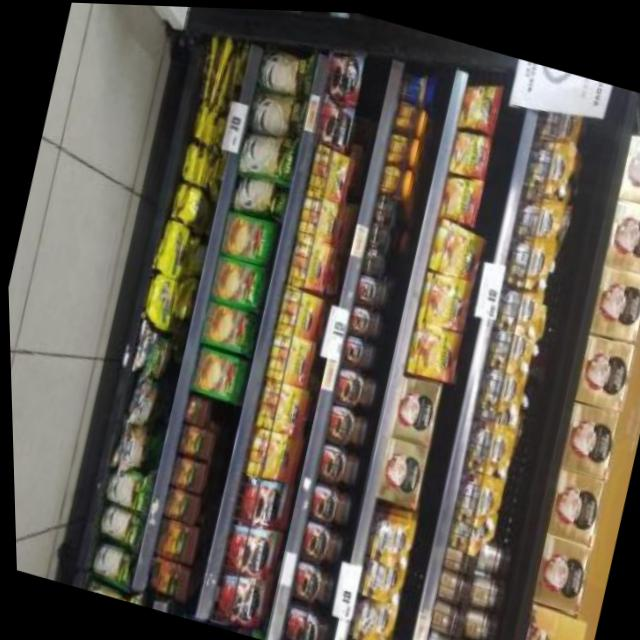Coffee: (238, 424, 299, 485), (411, 266, 471, 328), (402, 319, 462, 379), (250, 376, 308, 437), (425, 217, 482, 276), (208, 572, 261, 627), (262, 328, 312, 385), (271, 282, 321, 339), (218, 522, 270, 576), (230, 473, 281, 527), (293, 192, 341, 246), (305, 145, 352, 200), (454, 79, 501, 131), (273, 599, 332, 640), (445, 125, 491, 177), (283, 238, 329, 290), (285, 558, 333, 606), (434, 172, 481, 221), (321, 49, 364, 101), (294, 517, 340, 565), (312, 442, 358, 488), (320, 402, 367, 447), (312, 98, 354, 147), (304, 483, 349, 526), (330, 366, 375, 409), (390, 95, 425, 132), (345, 301, 381, 335), (382, 131, 417, 164), (338, 333, 371, 366), (376, 162, 409, 195), (351, 273, 385, 305), (365, 217, 387, 246), (372, 188, 394, 217), (359, 246, 381, 273)
